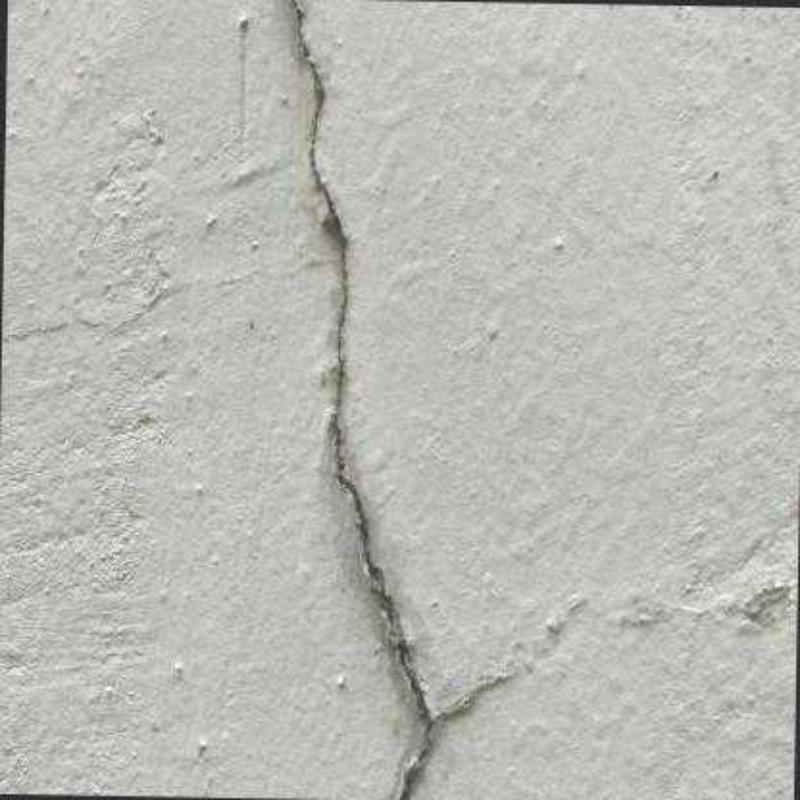pothole: (286, 0, 434, 798), (437, 675, 506, 719)
